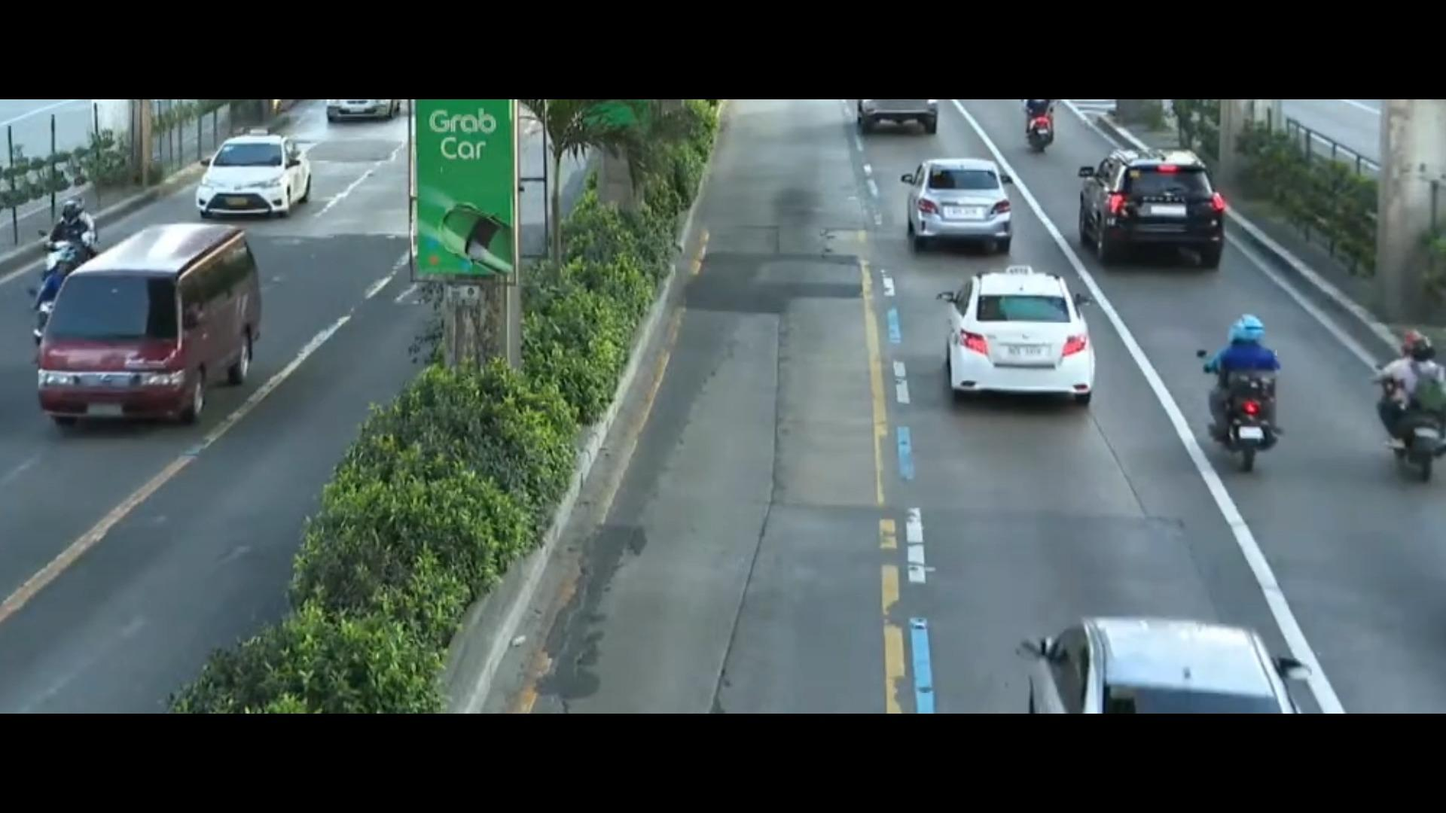Motorcycle: (1162, 307, 1331, 499), (1339, 317, 1446, 497), (7, 191, 91, 340)
SUV: (1058, 131, 1236, 288)
Sedan: (911, 256, 1113, 430), (893, 144, 1025, 268), (183, 118, 319, 234)
Van: (23, 214, 282, 456)
